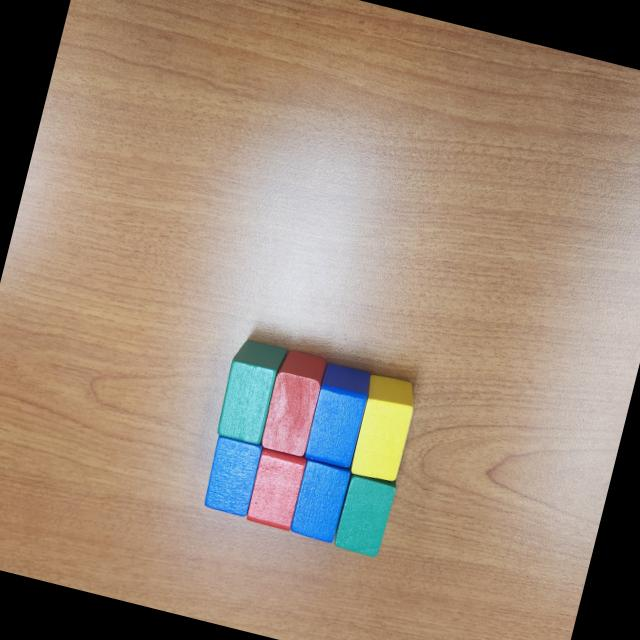blue: (301, 360, 375, 472), (284, 458, 354, 546), (200, 434, 264, 520)
green: (213, 334, 289, 448), (332, 472, 398, 561)
red: (258, 347, 329, 458), (245, 447, 308, 530)
yellow: (346, 372, 420, 483)
